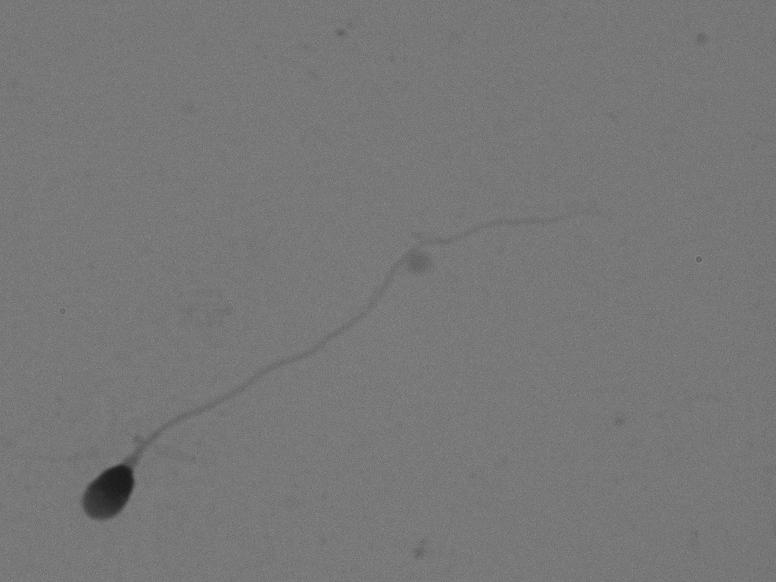Normal: (65, 178, 617, 531)
